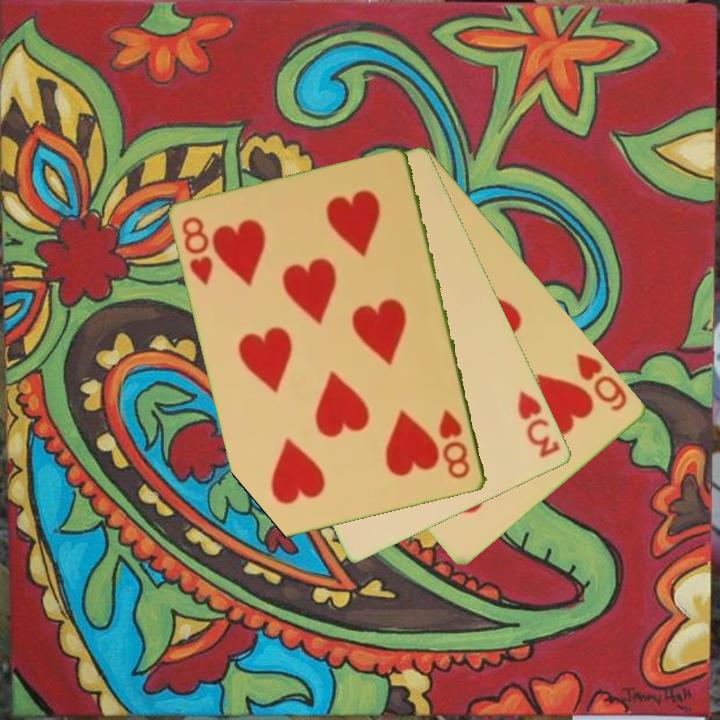3h: (514, 387, 564, 461)
6h: (573, 349, 631, 414)
8h: (436, 406, 474, 482), (179, 213, 217, 288)
